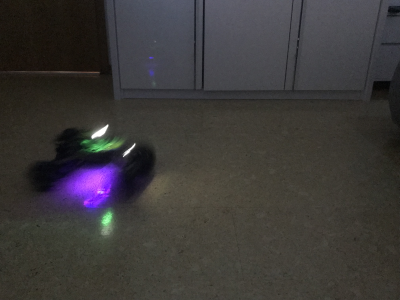remote control car: (29, 125, 157, 202)
